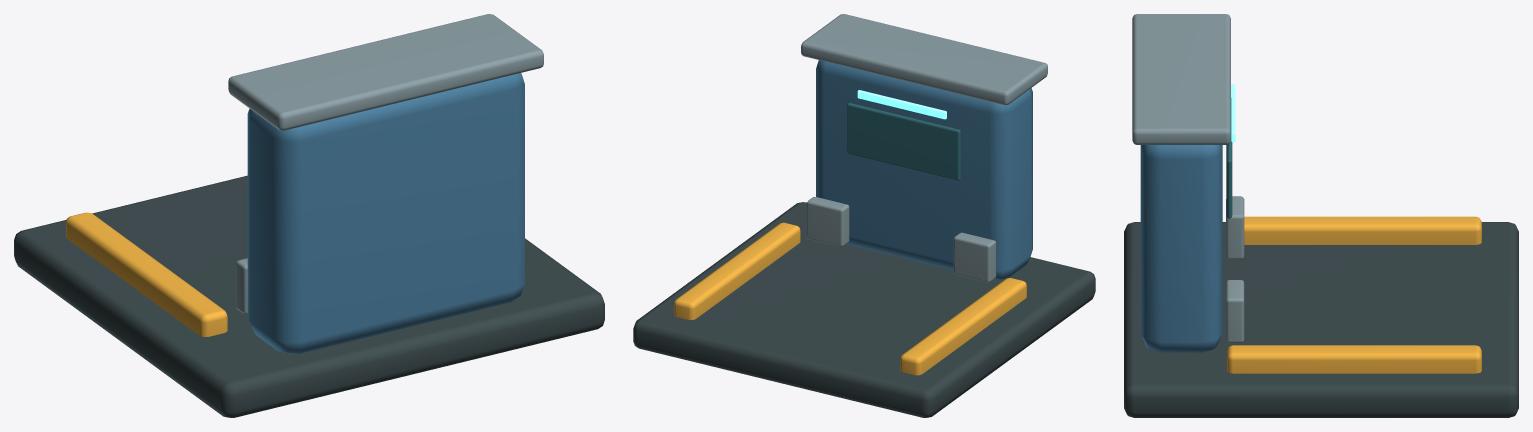
File: charger-station.glb
3 renders of one model, left to right at view 1: azimuth 30°, elevation 25°; view 2: azimuth 150°, elevation 25°; view 3: azimuth 270°, elevation 25°, orthographic. The views are drawn at different scales.
Parts seen in each view (by area): view 1: power pedestal, charge floor tray, power pedestal cap, wheel positioning rail, contact plate; view 2: charge floor tray, power pedestal, power pedestal cap, status screen, wheel positioning rail, wheel positioning rail.001, contact plate, contact plate.001, charging status bar; view 3: charge floor tray, power pedestal, power pedestal cap, wheel positioning rail.001, wheel positioning rail, contact plate.001, contact plate, status screen.
Boxes of the visible parts, x1,y1,x2,y2 form: power pedestal: (247, 73, 524, 353); charge floor tray: (14, 175, 604, 417); power pedestal cap: (228, 14, 543, 130); wheel positioning rail: (66, 212, 227, 336); contact plate: (236, 258, 247, 314); charge floor tray: (633, 202, 1095, 417); power pedestal: (816, 60, 1032, 279); power pedestal cap: (801, 14, 1047, 105); status screen: (847, 103, 960, 180); wheel positioning rail: (900, 278, 1026, 375); wheel positioning rail.001: (674, 222, 800, 319); contact plate: (953, 232, 996, 282); contact plate.001: (807, 197, 849, 246); charging status bar: (857, 90, 946, 119); charge floor tray: (1124, 222, 1518, 417); power pedestal: (1140, 145, 1222, 352); power pedestal cap: (1132, 14, 1230, 144); wheel positioning rail.001: (1227, 345, 1481, 373); wheel positioning rail: (1244, 216, 1481, 244); contact plate.001: (1226, 280, 1244, 342); contact plate: (1226, 196, 1244, 259); status screen: (1226, 98, 1232, 218).
Bounding box in the file's own units: 0.98 × 0.7125 × 0.96.
